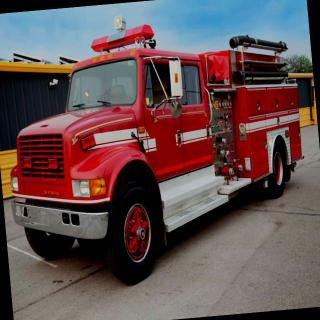Fire_truck: (0, 0, 314, 295)
